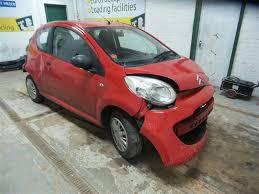bonnet-dent: (133, 59, 210, 93)
front-bumper-dent: (161, 106, 218, 145)
